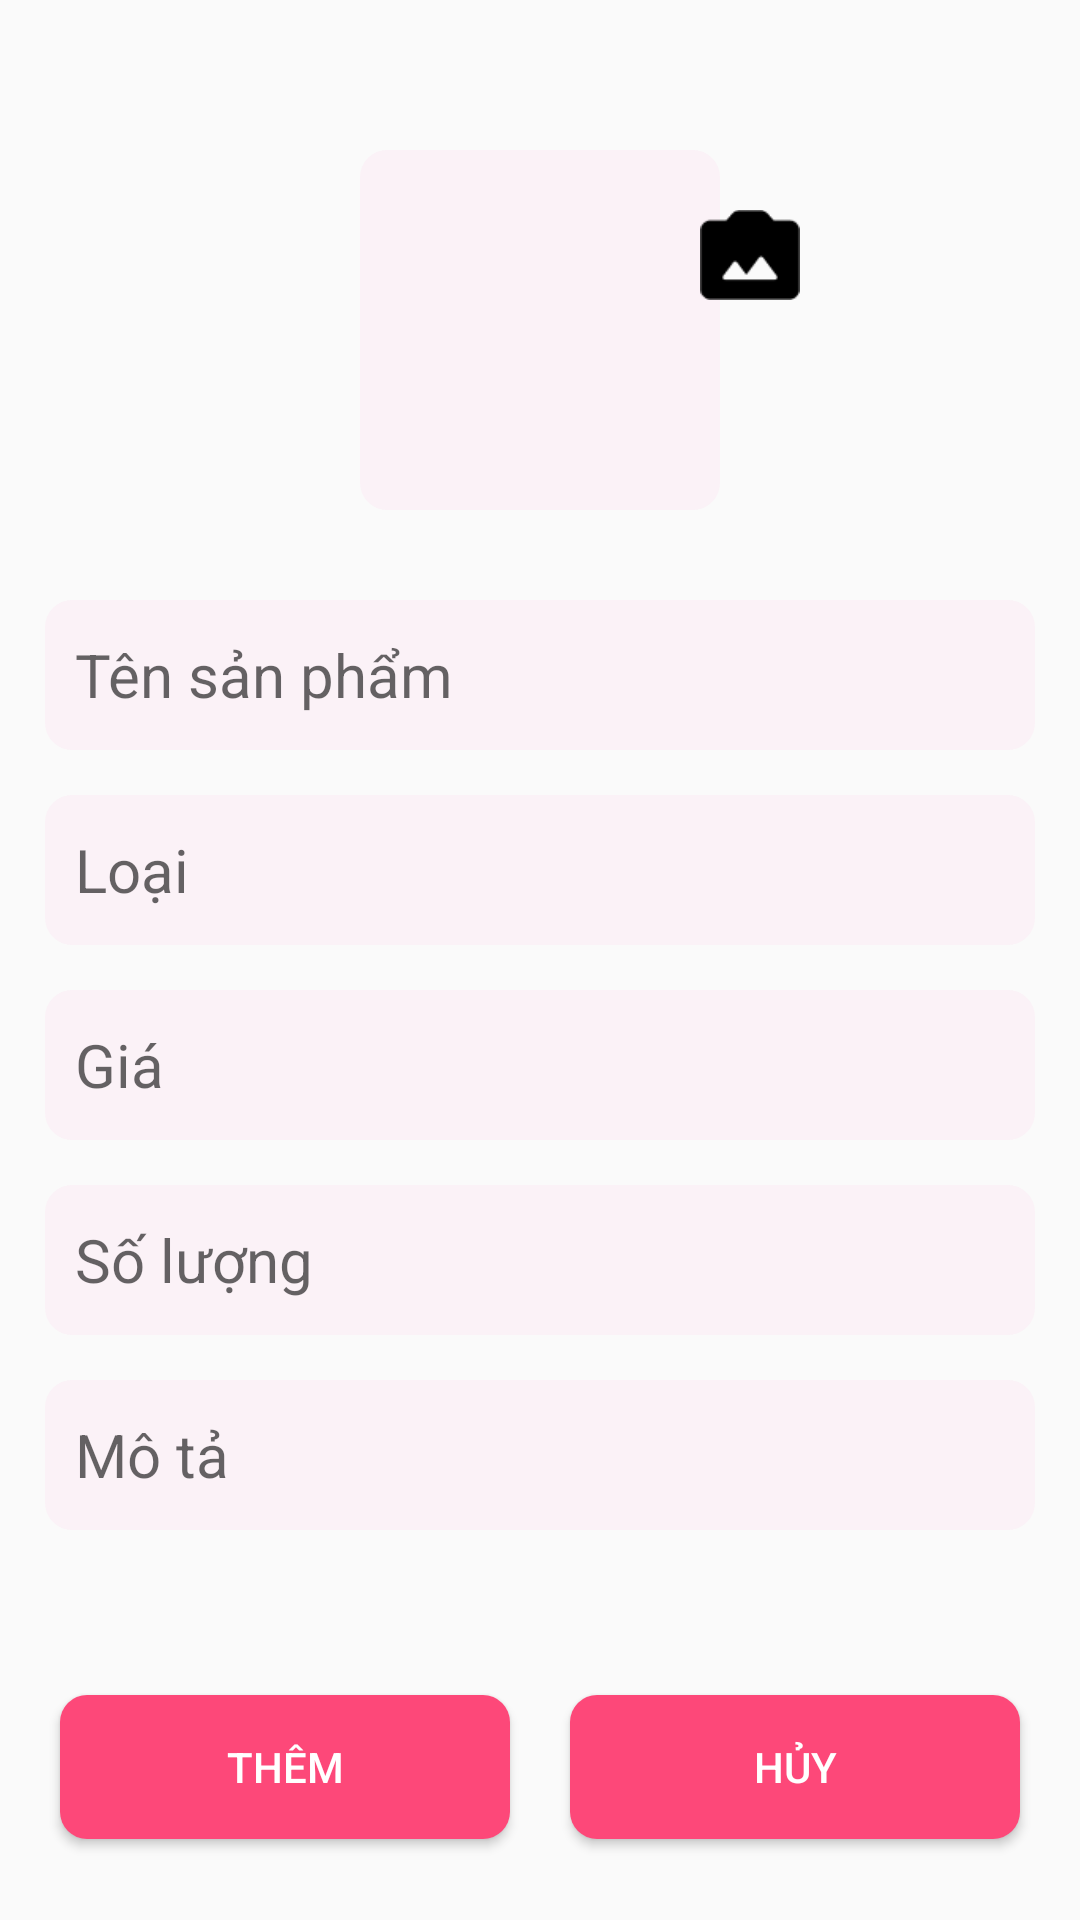

Named icons in this screenshot (1080*1920) and their bounding boxes, (x1, y1, x2, y2):
imagegallery: (700, 210, 800, 300)
